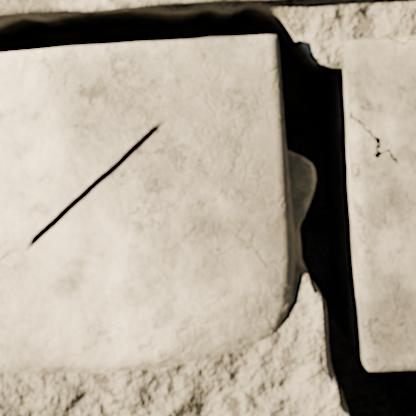brick: (0, 36, 294, 372), (345, 38, 415, 369), (0, 0, 248, 14), (395, 37, 407, 41)
crack: (0, 0, 415, 415), (388, 37, 415, 45)
